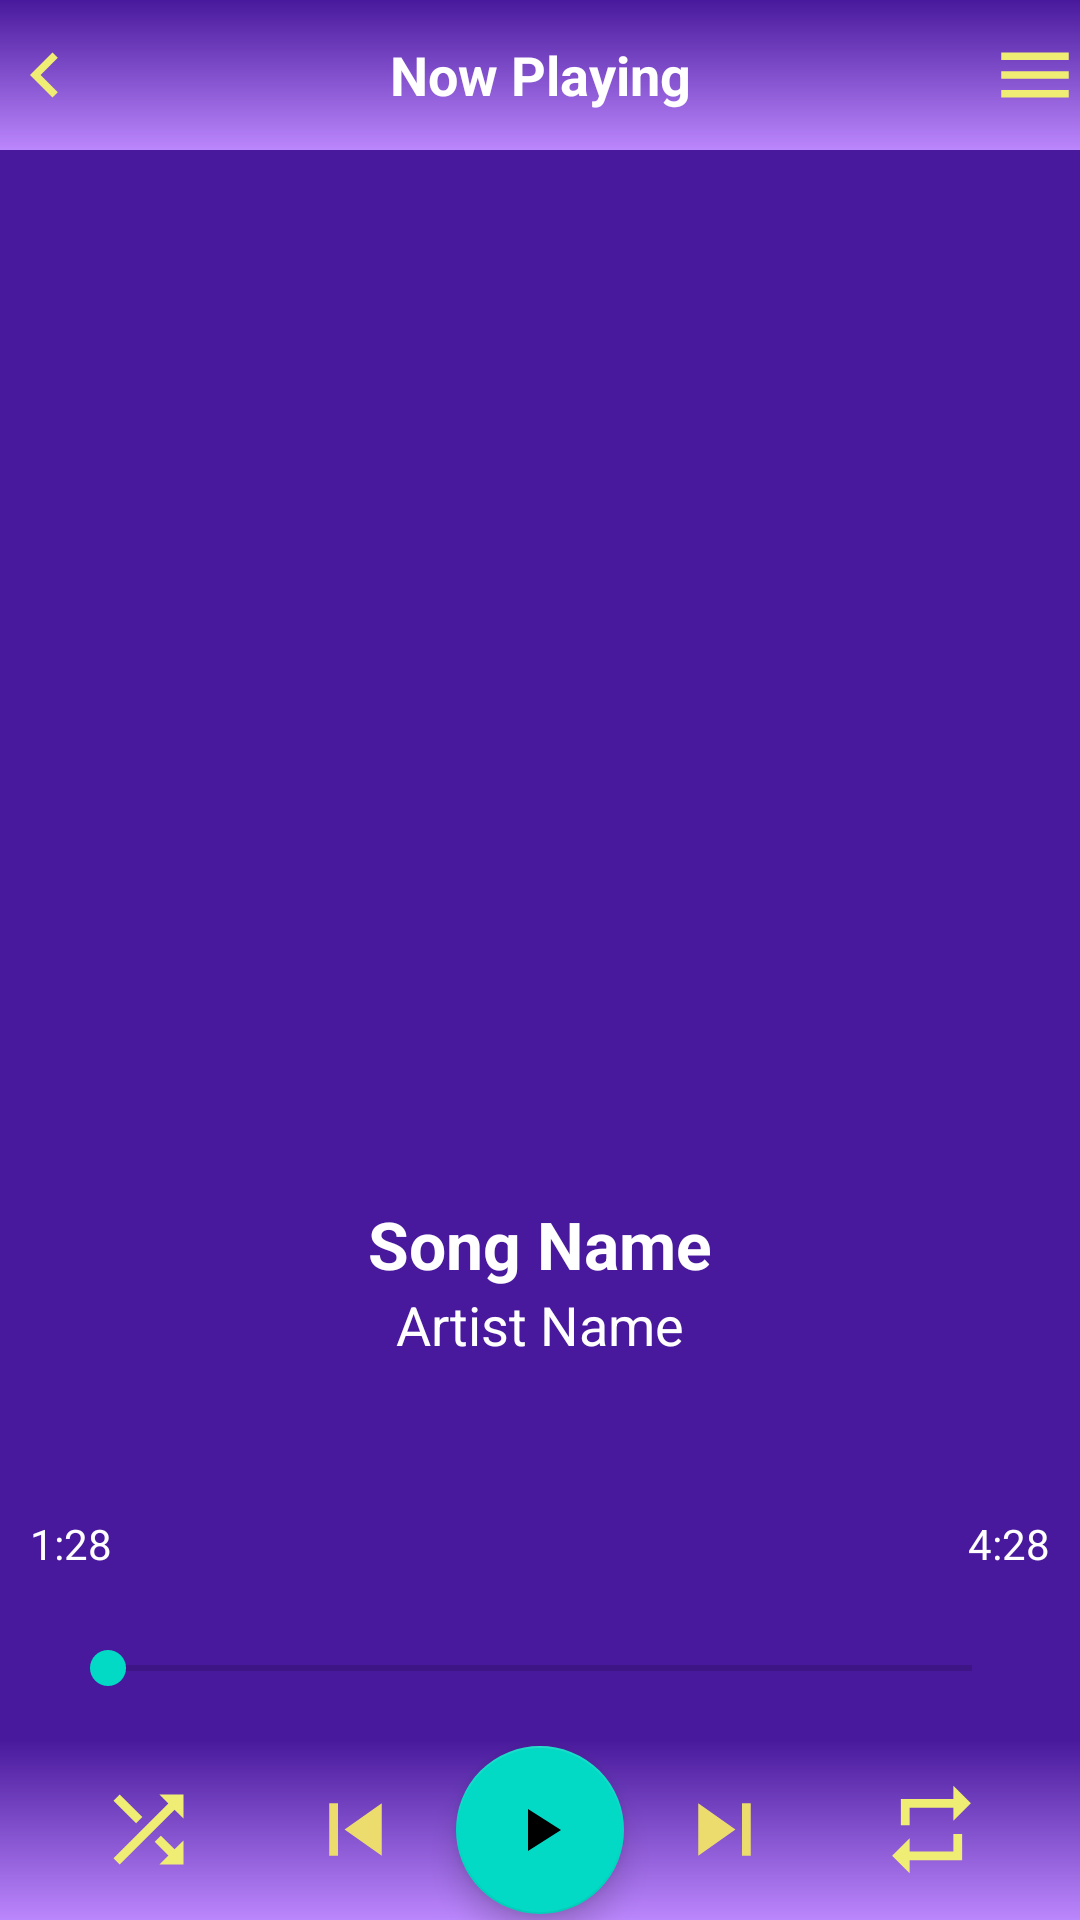

Screen size 1080 x 1920. Icon name, then its center in pixels as [x,y]:
menu: [1035,75]
play: [540,1830]
repeat: [931,1829]
shuffle: [148,1829]
skip next: [724,1829]
skip previous: [355,1829]
